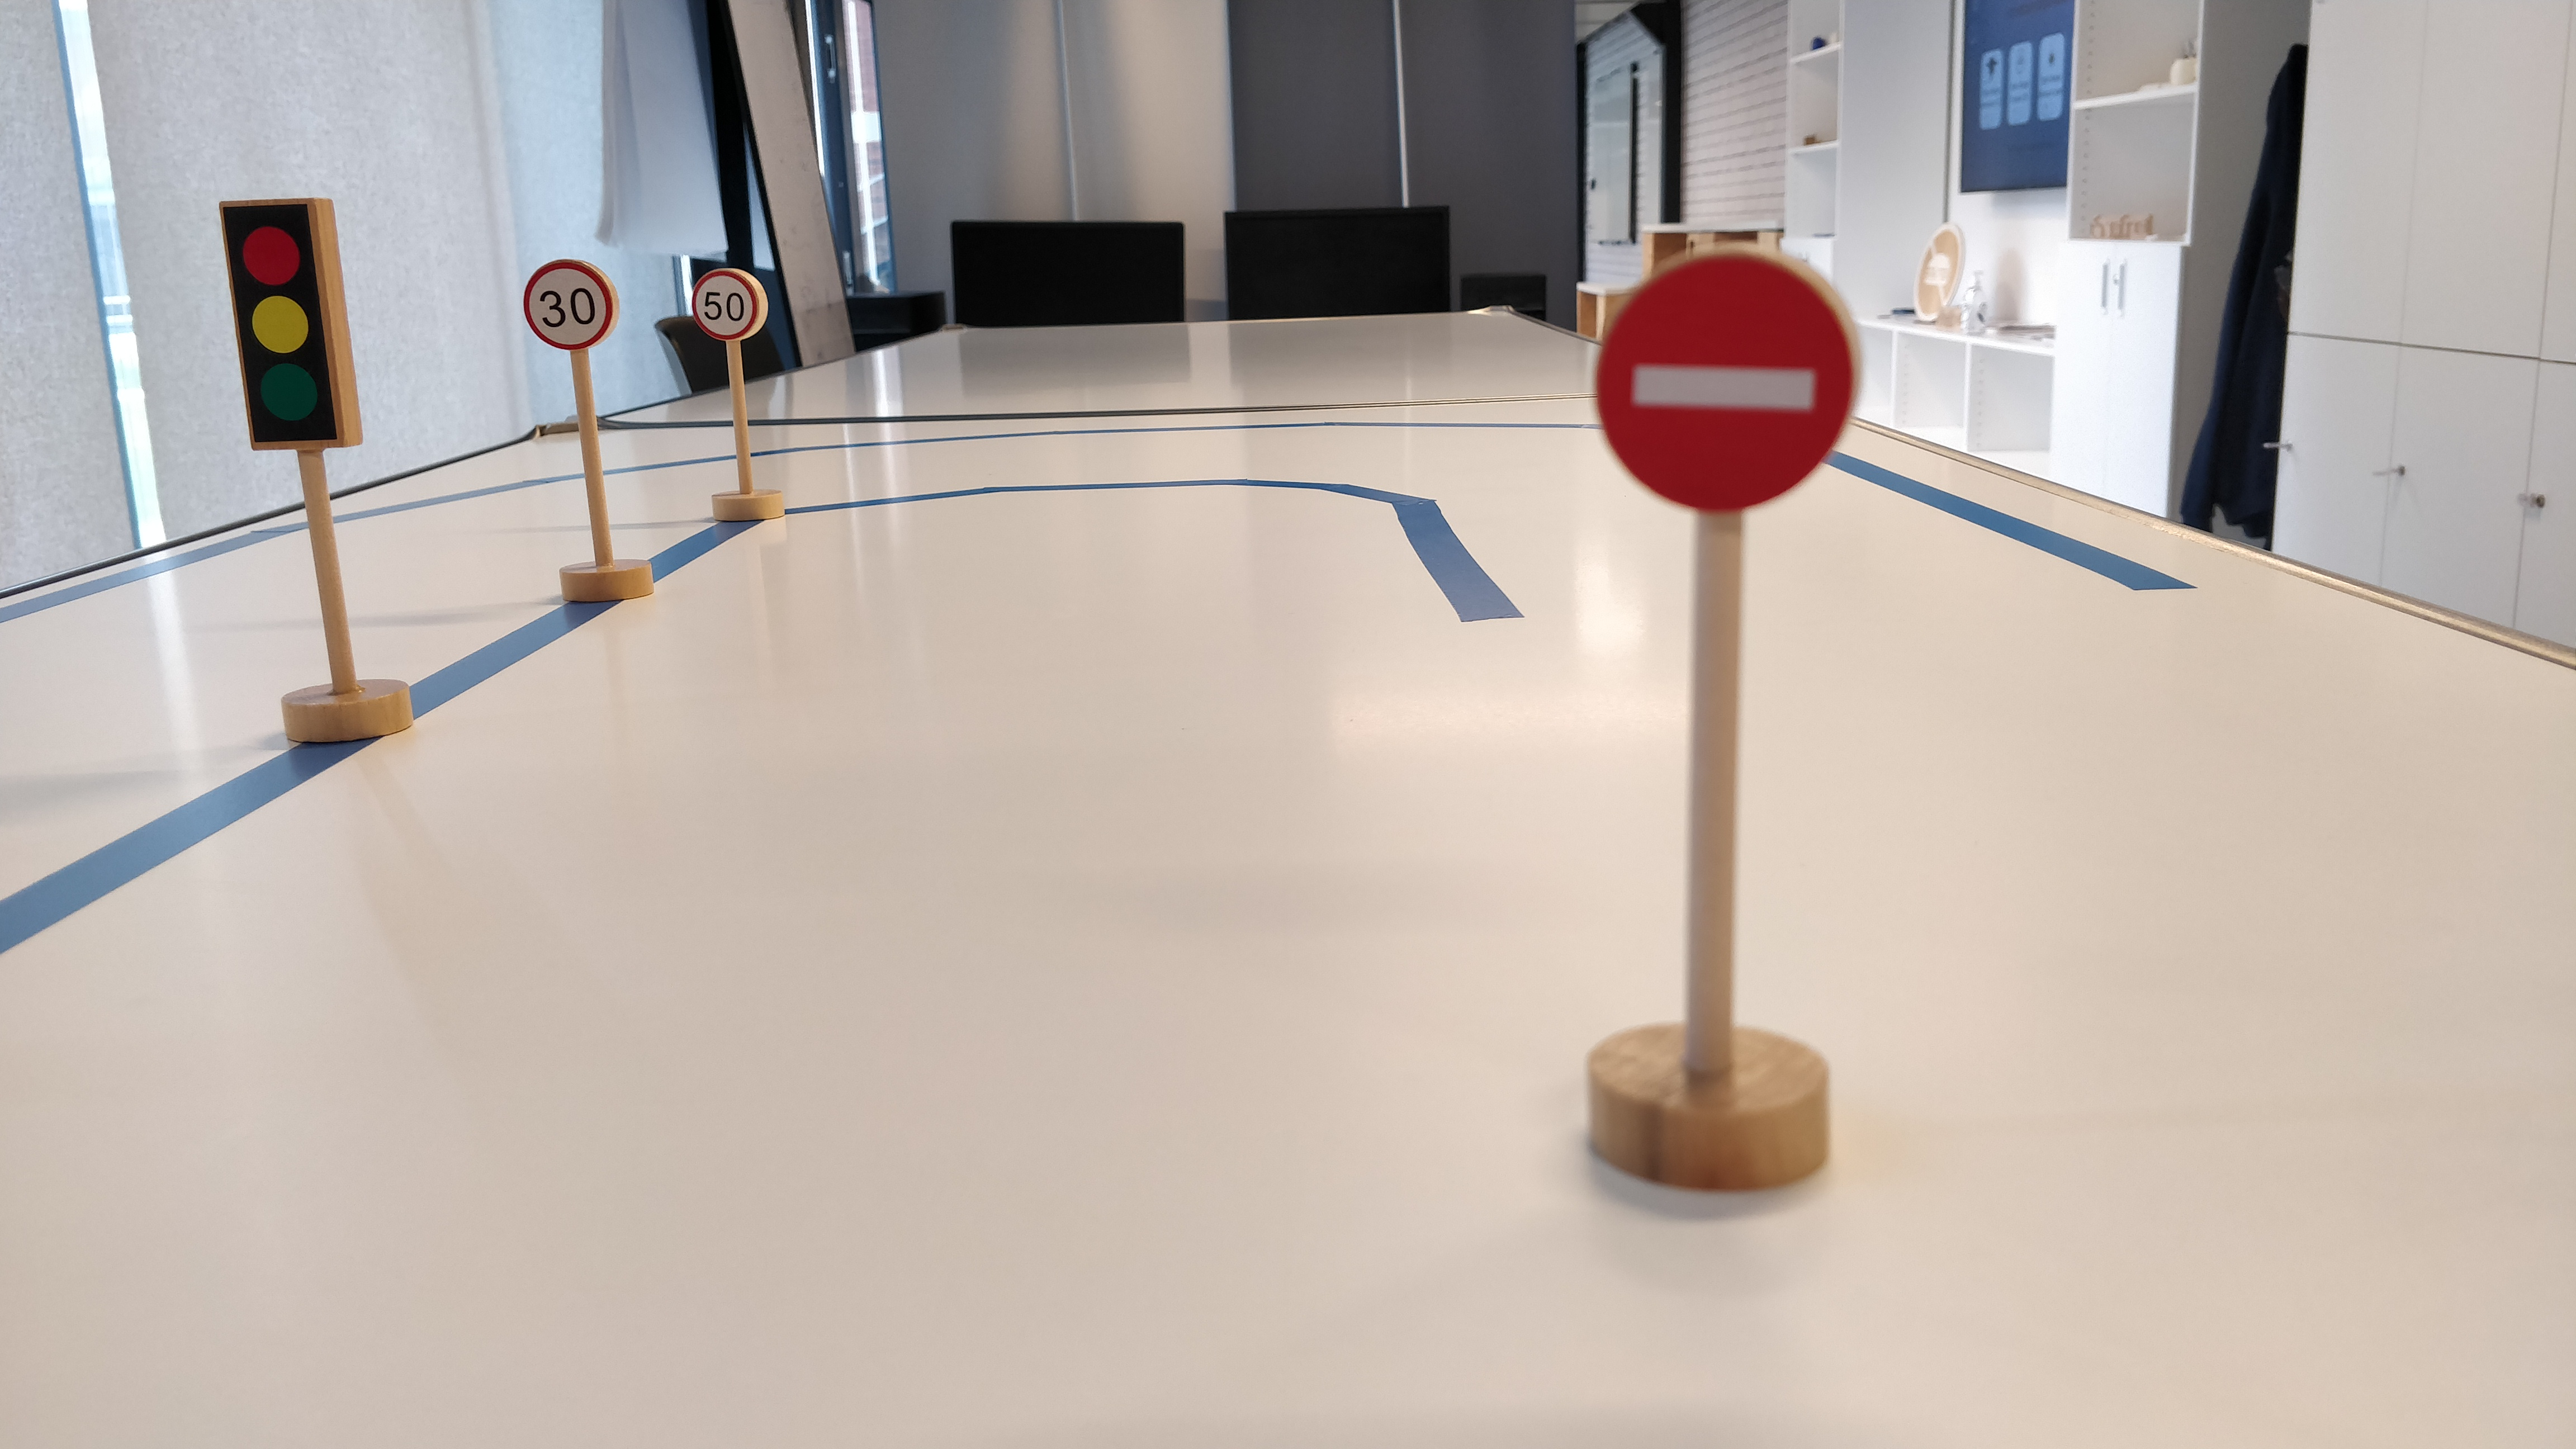Prohibition Sign: (1583, 244, 1868, 518)
Speed Limit 30: (521, 255, 621, 353)
Speed Limit 50: (690, 265, 769, 343)
Traffic Light: (211, 195, 363, 453)
